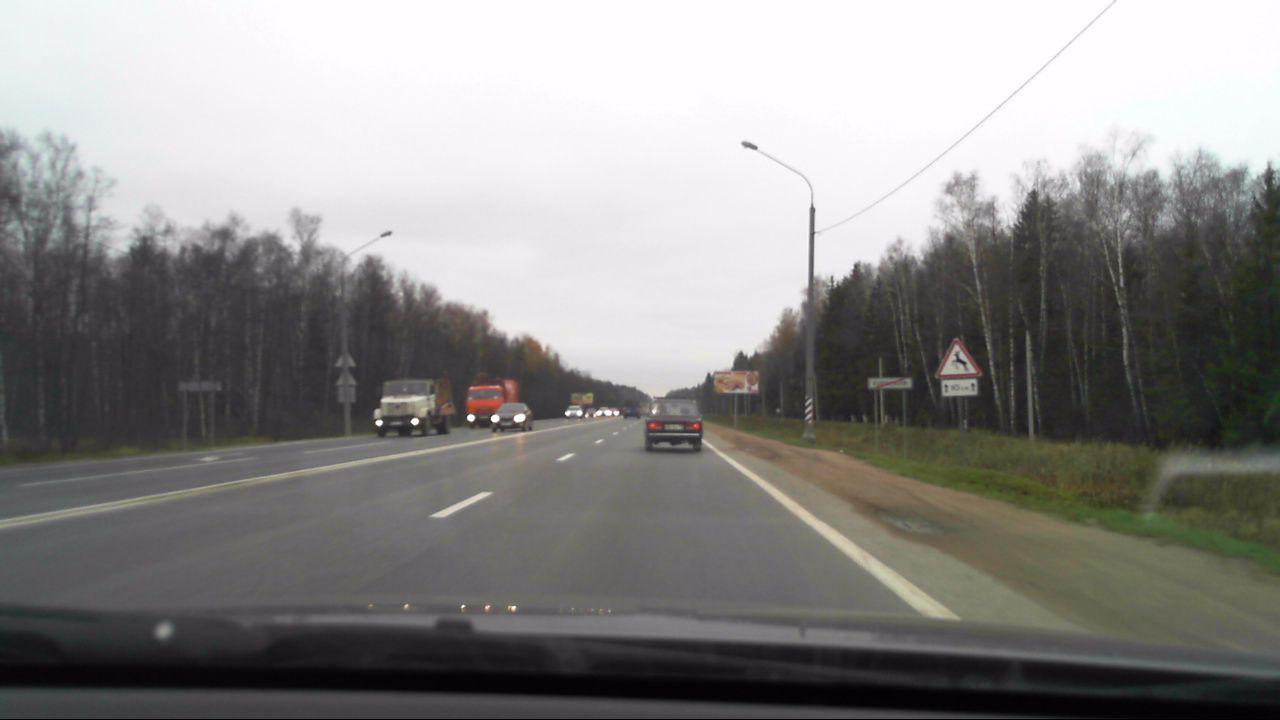1_27: (935, 338, 980, 378)
5_24_1: (866, 375, 913, 393)
8_2_1: (941, 378, 978, 395)
